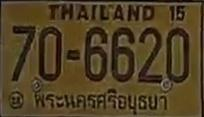0: (38, 26, 62, 81), (166, 27, 189, 83)
2: (138, 26, 162, 82)
6: (110, 27, 134, 82), (84, 26, 107, 81)
7: (11, 25, 35, 81)
AYA: (28, 87, 172, 116)
